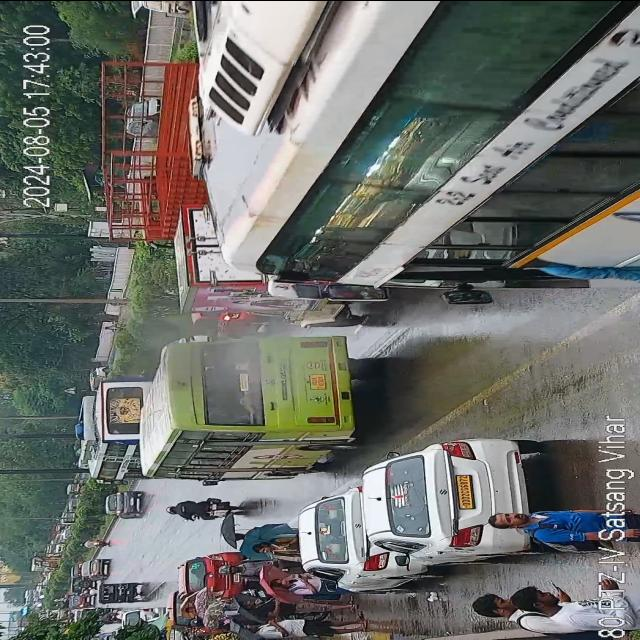2-wheelers: (168, 496, 241, 520), (78, 540, 110, 548)
auto: (98, 582, 142, 604)
bus: (194, 0, 640, 283), (140, 335, 374, 491), (86, 371, 156, 488)
car: (366, 438, 540, 577), (300, 486, 397, 590), (182, 551, 242, 593), (162, 588, 185, 635), (105, 492, 144, 516), (62, 582, 94, 606), (121, 606, 163, 624), (79, 558, 109, 578)
pedestrian: (465, 582, 575, 625), (240, 616, 370, 636), (238, 596, 357, 615), (218, 559, 292, 576), (253, 534, 297, 559), (225, 524, 292, 540), (271, 573, 323, 591)
truck: (176, 212, 376, 326), (98, 64, 214, 254), (486, 501, 590, 543)
